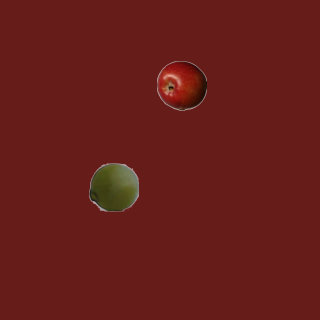Apple Braeburn: (156, 60, 206, 110)
Grape White 4: (88, 161, 138, 211)
